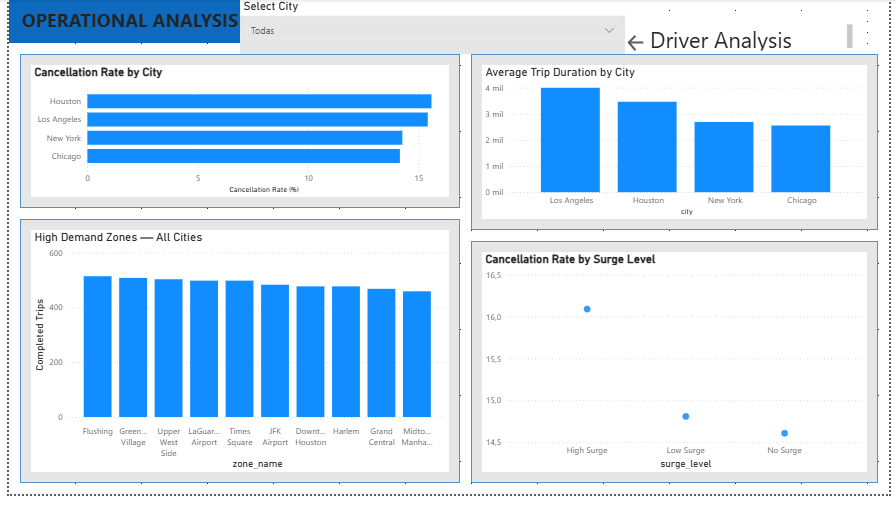

The page's visual inventory and layout, read from the dashboard file:
{"tool":"powerbi","page":{"name":"Operational Analysis","canvas":[1280,720],"ordinal":2},"visuals":[{"type":"textbox","box":[0,0,352,64],"z":0},{"type":"shape","box":[16,80,640,224],"z":1000},{"type":"shape","box":[672,352,592,352],"z":2000},{"type":"shape","box":[16,320,640,384],"z":3000},{"type":"shape","box":[672,80,592,256],"z":4000},{"type":"barChart","title":"Cancellation Rate by City","fields":{"Category":["11_cancellation_rate_by_city.city"],"Y":["Sum(11_cancellation_rate_by_city.cancellation_rate)"]},"box":[32,96,608,192],"z":5000},{"type":"slicer","title":"Select City","fields":{"Values":["DimCity.city"]},"box":[336,0,560,80],"z":6000},{"type":"clusteredColumnChart","title":"Average Trip Duration by City","fields":{"Category":["9_trip_duration_by_city.city"],"Y":["Avg(9_trip_duration_by_city.average_trip_duration)"]},"box":[688,96,560,224],"z":7000},{"type":"clusteredColumnChart","title":"High Demand Zones — All Cities","fields":{"Category":["10_high_demand_zones.zone_name"],"Y":["Sum(10_high_demand_zones.completed_trips)"]},"box":[32,336,608,352],"z":8000},{"type":"scatterChart","title":"Cancellation Rate by Surge Level","fields":{"Y":["Avg(12_surge_vs_cancellation.cancellation_rate)"],"X":["12_surge_vs_cancellation.surge_level"]},"box":[688,368,560,320],"z":9000},{"type":"actionButton","box":[896,48,96,32],"z":10000},{"type":"textbox","box":[928,32,304,48],"z":11000}]}

Visuals, with their boxes on the page's 1280x720 design canvas (x1, y1, x2, y2). These are canvas units, not pixel positions in the 896x507 screenshot, which may show the page scaled, cropped or inside an application window:
textbox: (0, 0, 352, 64)
shape: (16, 80, 656, 304)
shape: (672, 352, 1264, 704)
shape: (16, 320, 656, 704)
shape: (672, 80, 1264, 336)
"Cancellation Rate by City" barChart: (32, 96, 640, 288)
"Select City" slicer: (336, 0, 896, 80)
"Average Trip Duration by City" clusteredColumnChart: (688, 96, 1248, 320)
"High Demand Zones — All Cities" clusteredColumnChart: (32, 336, 640, 688)
"Cancellation Rate by Surge Level" scatterChart: (688, 368, 1248, 688)
actionButton: (896, 48, 992, 80)
textbox: (928, 32, 1232, 80)
